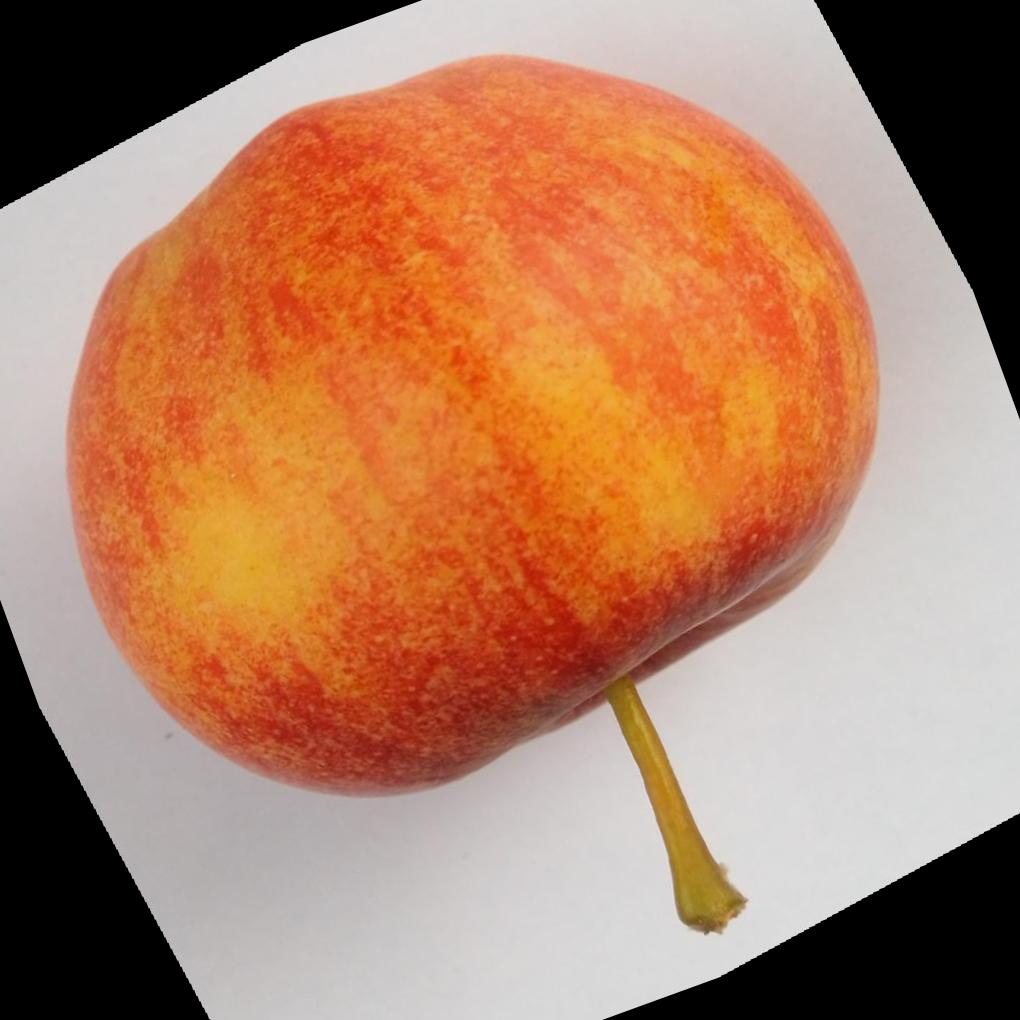FreshGuava: (65, 54, 883, 803)
